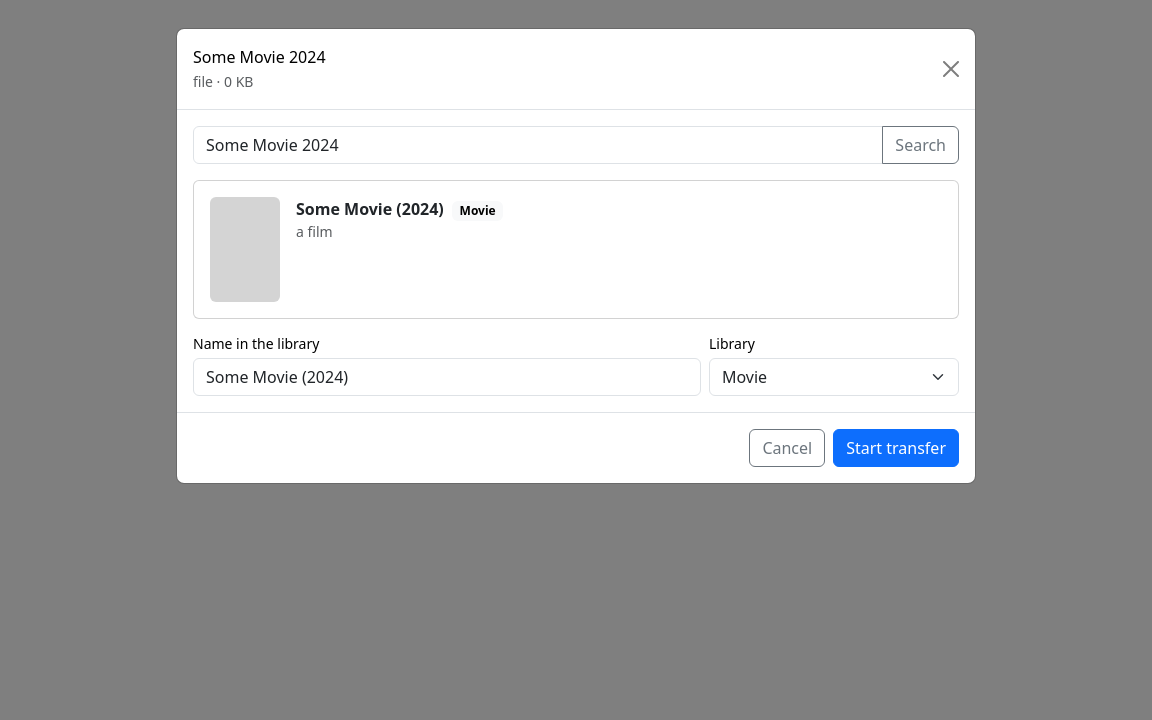
Test: starts the only match without picking anything first
Check: the text "Some Movie (2024)" is shown, box [296,198,444,220]
Click the button "Start transfer": (896, 448) [833,429,959,467]
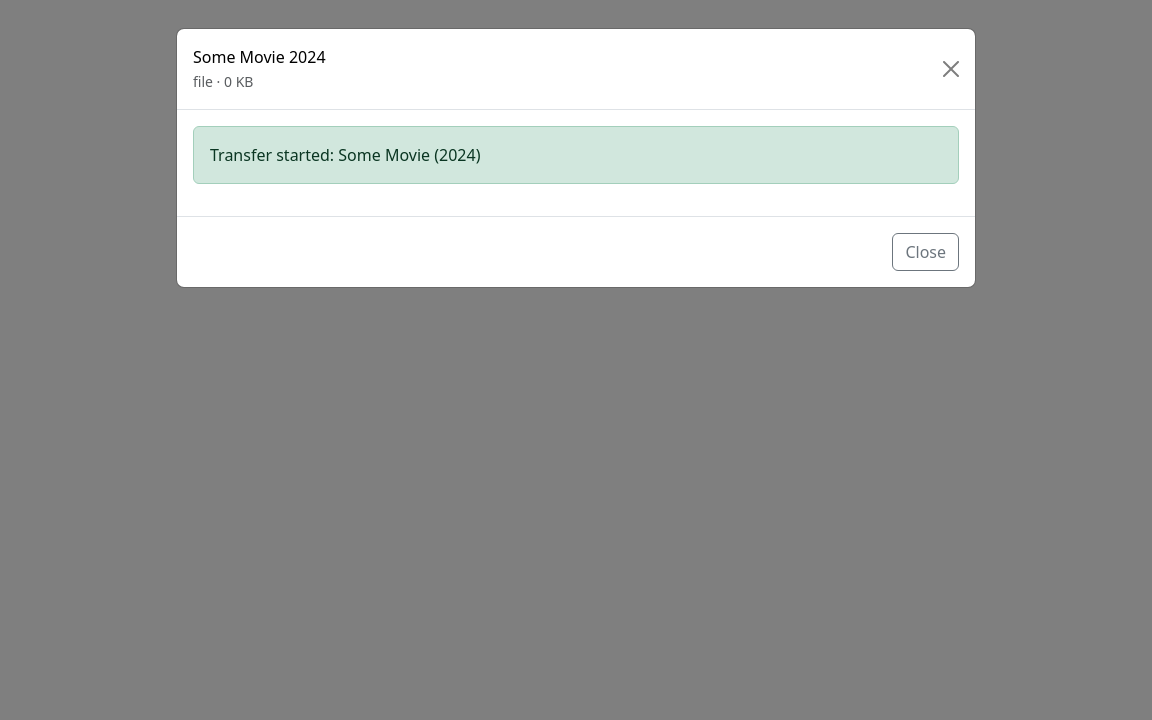
Check: the text "Transfer started: Some Movie (2024)" is shown, box [193,126,959,184]
